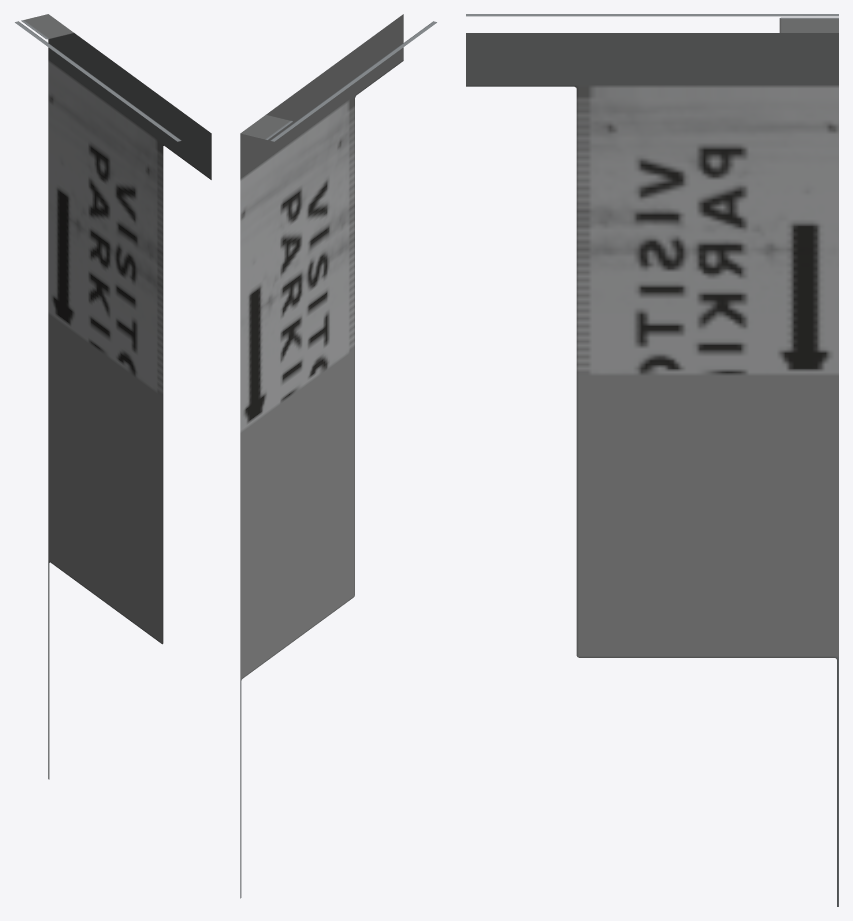
Rendered from section-0.obj.
3 renders of one model, left to right at view 1: azimuth 30°, elevation 25°; view 2: azimuth 150°, elevation 25°; view 3: azimuth 270°, elevation 25°, orthographic. The views are drawn at different scales.
Size of the model in its own units: 0.0413 by 0.885 by 0.3422.
